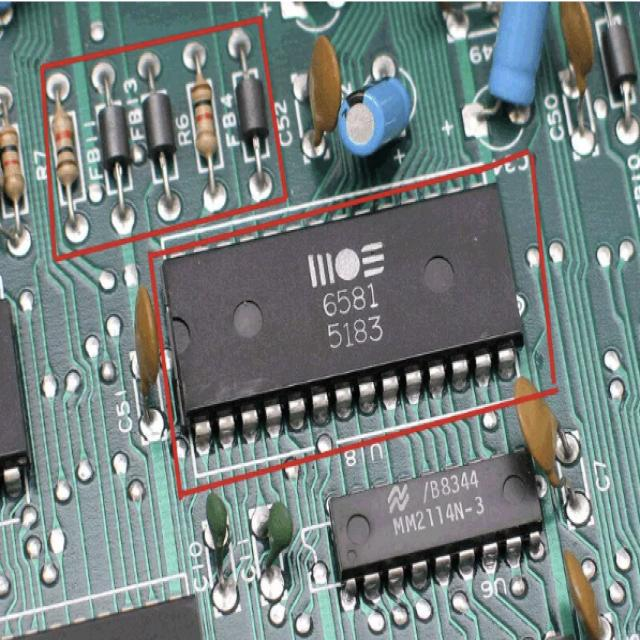Electrolytic capacitor: (482, 0, 552, 135), (333, 75, 431, 146)
IC: (162, 187, 542, 431), (327, 455, 555, 582)
ceramic capacitor: (504, 358, 591, 516), (115, 273, 167, 445), (554, 0, 608, 150), (296, 44, 343, 169), (555, 542, 613, 639)
diode: (230, 66, 272, 172), (91, 89, 135, 187), (142, 89, 173, 179)
resistor: (49, 102, 86, 215), (0, 110, 27, 226), (189, 66, 218, 162)
